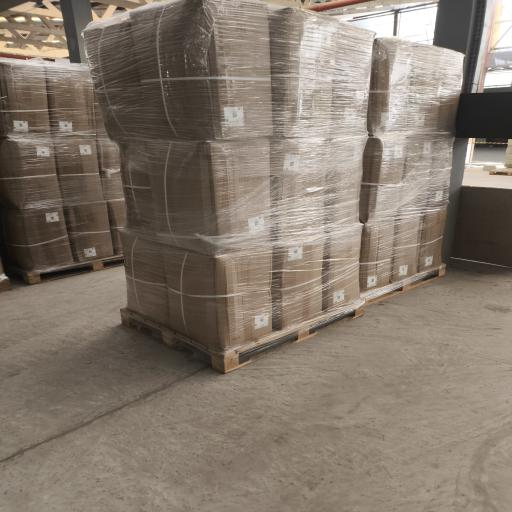pallet: (121, 302, 363, 373), (362, 264, 445, 307), (6, 255, 123, 284), (0, 277, 11, 292), (490, 169, 511, 175)
